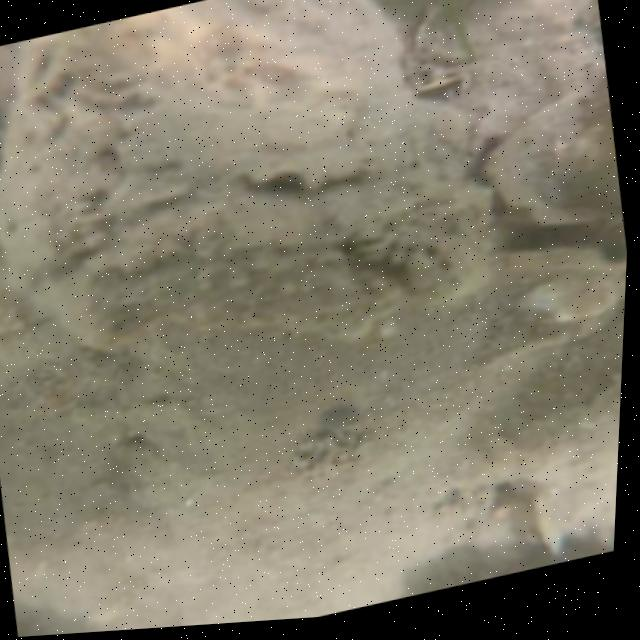Oyster-Indeterminate: (0, 0, 512, 369), (523, 367, 622, 553), (494, 84, 623, 224)
